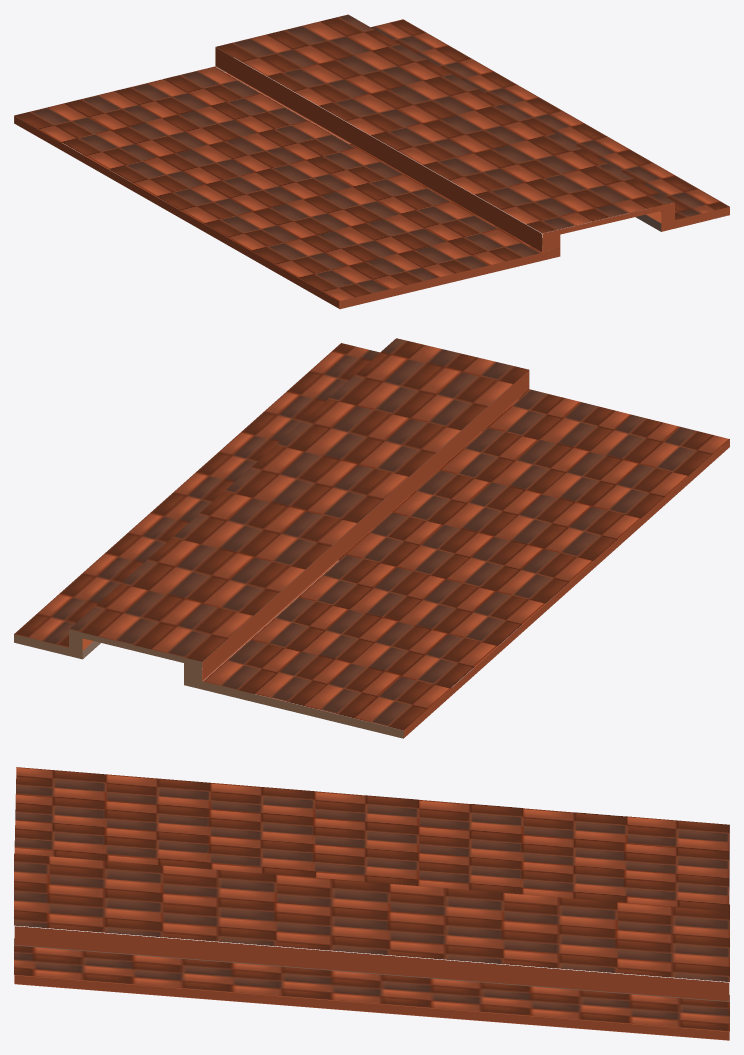
File: Roof 1.fbx
The picture shows the model from 3 angles, top to bottom: view 1: azimuth 30°, elevation 25°; view 2: azimuth 150°, elevation 25°; view 3: azimuth 270°, elevation 25°; orthographic projection. The views are drawn at different scales.
Visible parts, largest first — view 1: Roof2; view 2: Roof2; view 3: Roof2.
Part boxes in pixels (<box>): Roof2: <box>14,14,729,309</box>; Roof2: <box>14,338,729,738</box>; Roof2: <box>14,767,729,1040</box>.
Size of the model in its own units: 2575 by 508 by 3743.
Materials: 4 (2 with a texture image).
